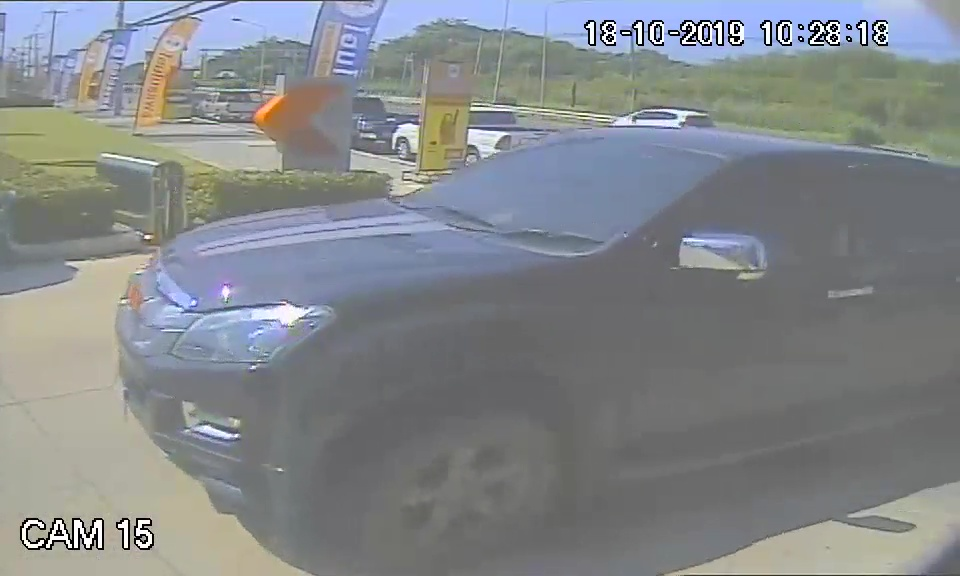pickup: (108, 126, 960, 534)
